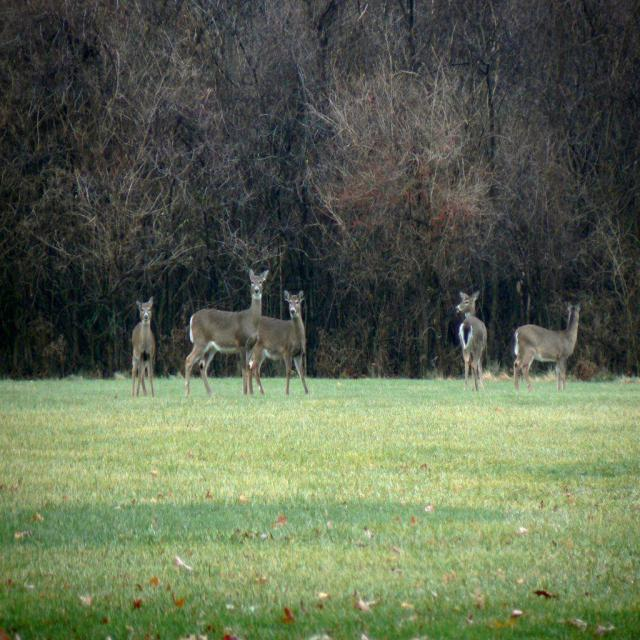Deer: (185, 268, 269, 392), (250, 288, 311, 397), (511, 303, 580, 393), (456, 290, 488, 392), (132, 294, 156, 398)
